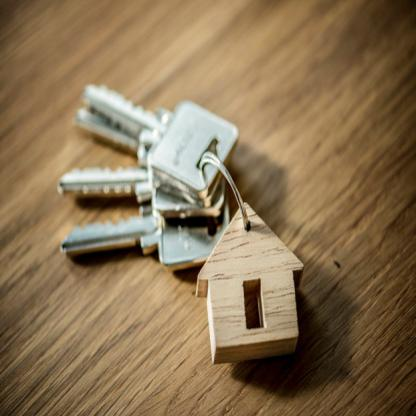keys: (68, 74, 236, 282)
